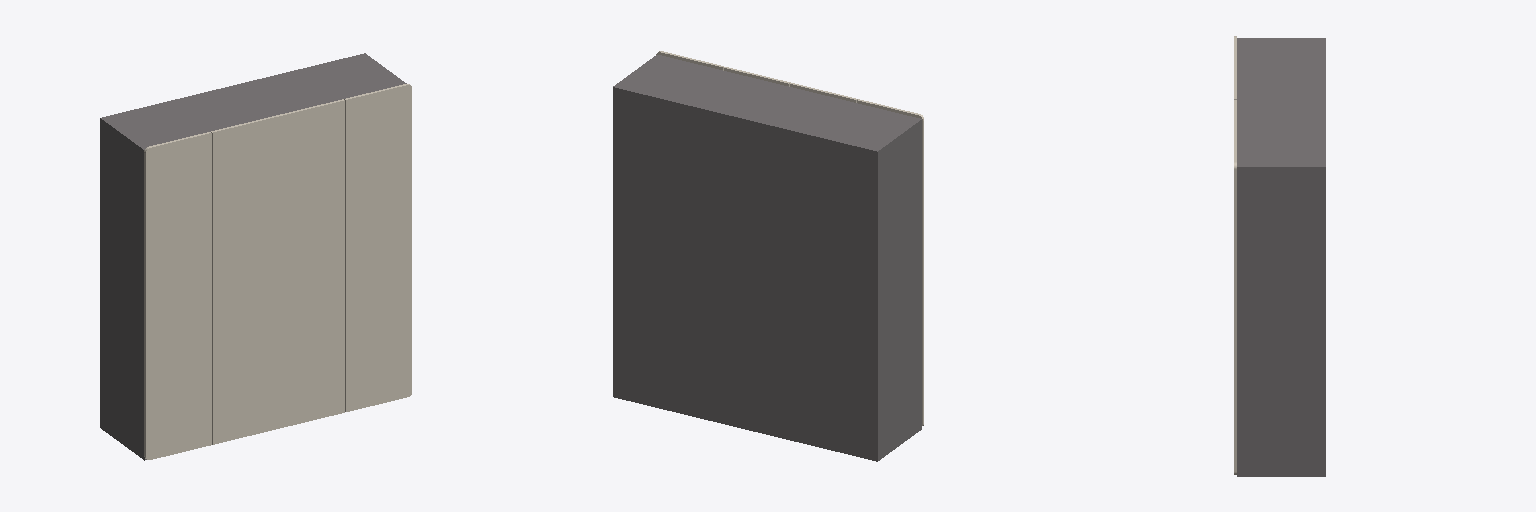
Rendered from 2pir_szafa_4d.obj.
3 renders of one model, left to right at view 1: azimuth 30°, elevation 25°; view 2: azimuth 150°, elevation 25°; view 3: azimuth 270°, elevation 25°, orthographic.
Visible parts, largest first — view 1: Rectangle10, Rectangle11; view 2: Rectangle11, Rectangle10; view 3: Rectangle11, Rectangle10.
Boxes of the visible parts, x1,y1,x2,y2 form: Rectangle10: [144, 84, 411, 459]; Rectangle11: [100, 53, 406, 460]; Rectangle11: [613, 55, 921, 461]; Rectangle10: [656, 51, 923, 425]; Rectangle11: [1237, 38, 1325, 476]; Rectangle10: [1234, 36, 1236, 474].
Bounding box in the file's own units: 194 × 217 × 58.04.